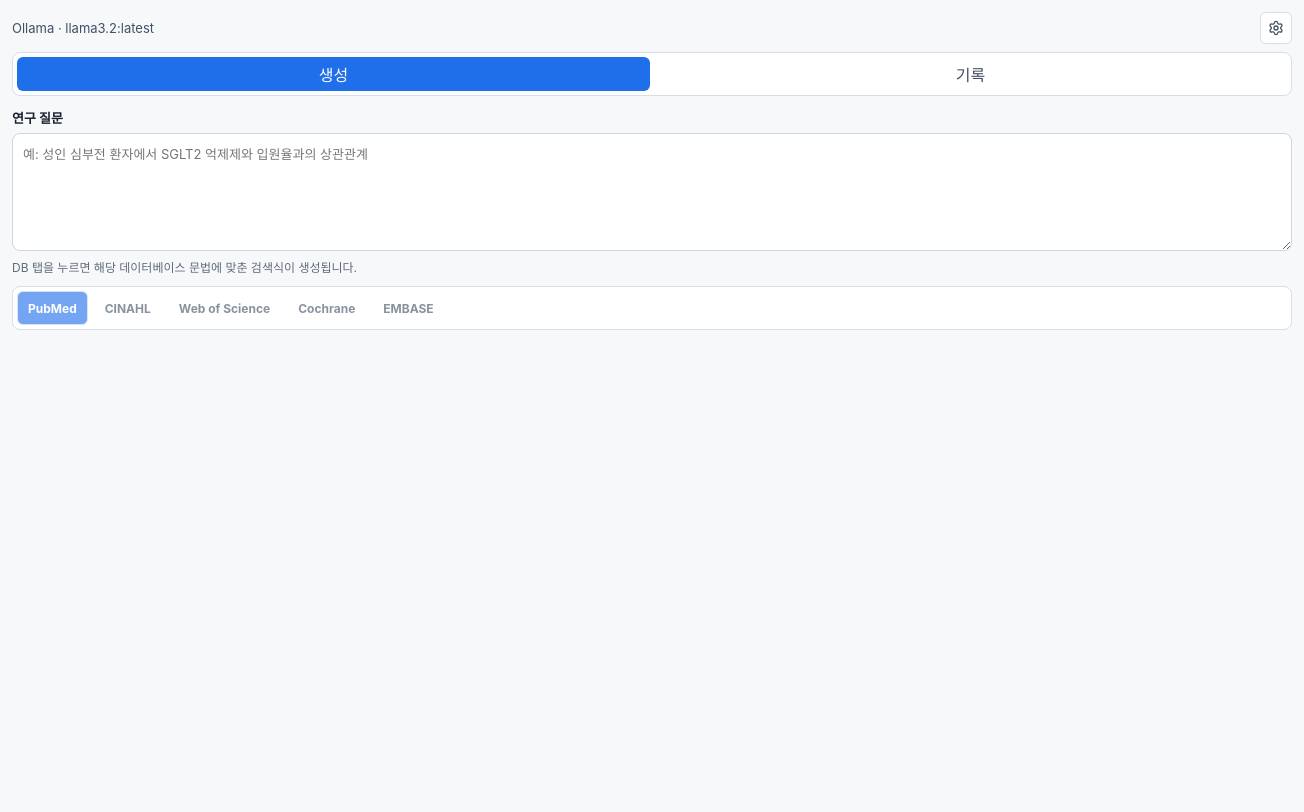
it: Generator › clears the draft question and visible results for a new question without deleting history
In the text box labelled "연구 질문": (652, 192) [12,133,1292,251], type "노인 우울증 환자에서 운동 치료"
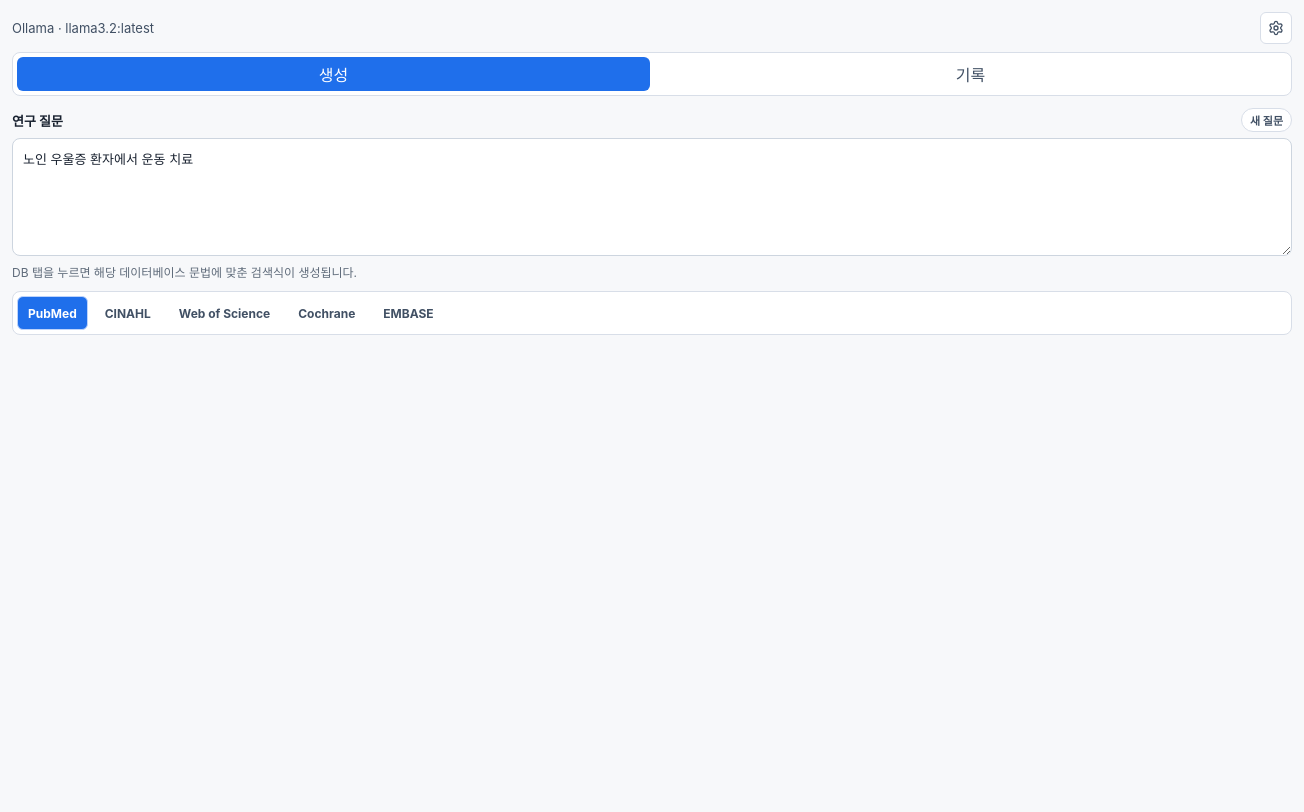
Click the tab "PubMed": (52, 313) [17,296,88,330]
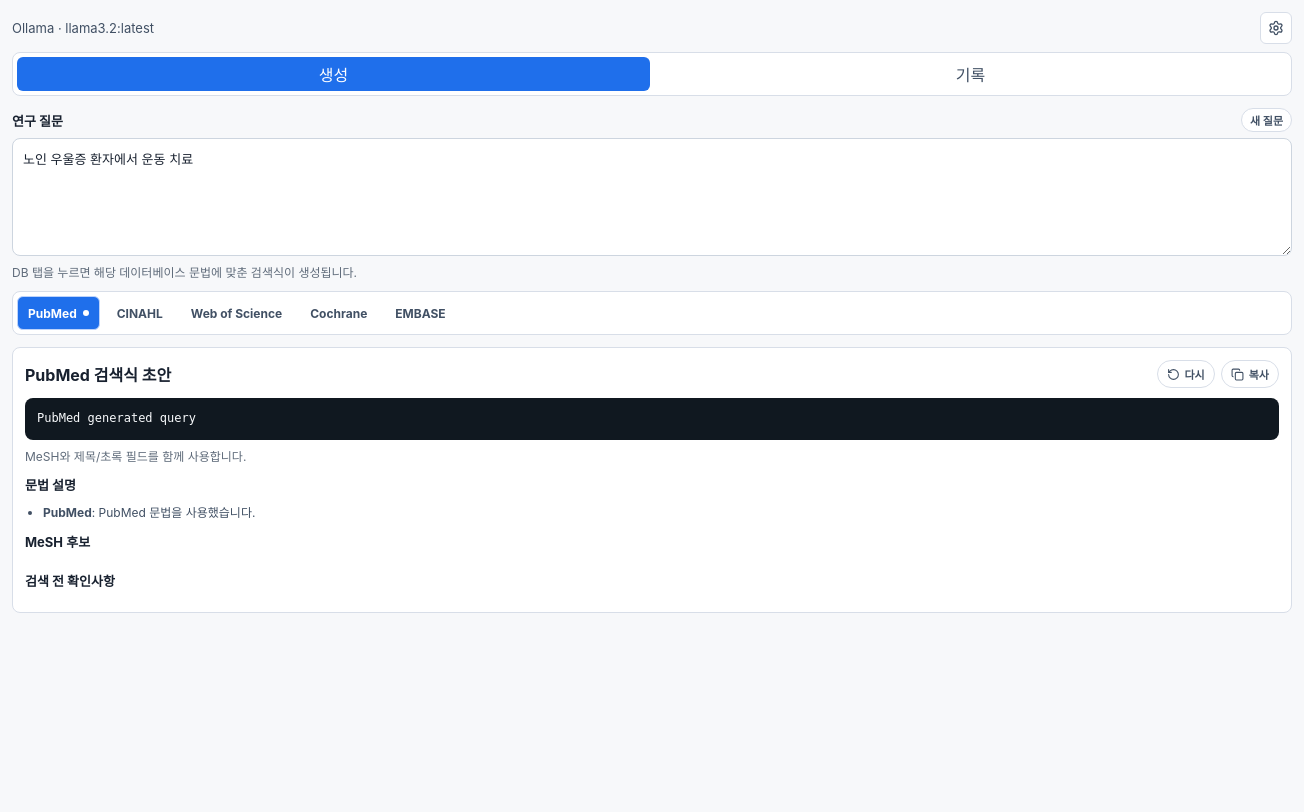
Expected: the text "PubMed generated query" is shown, [25,398,1279,440]
Click the button "새 질문": (1266, 120) [1241,108,1292,132]
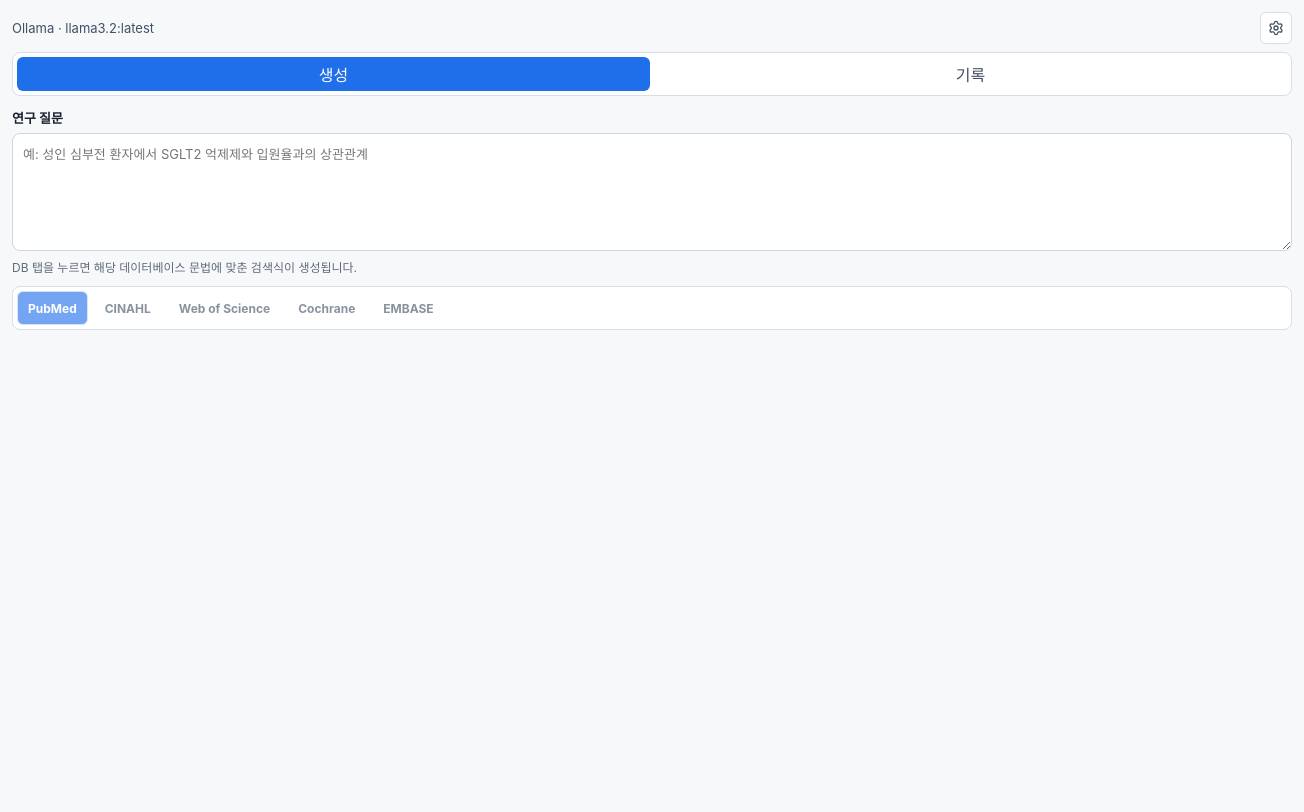
Expected: the text box labelled "연구 질문" is empty, [12,133,1292,251]
Expected: the text "PubMed generated query" is gone
Click the button "기록": (970, 74) [654,57,1287,91]
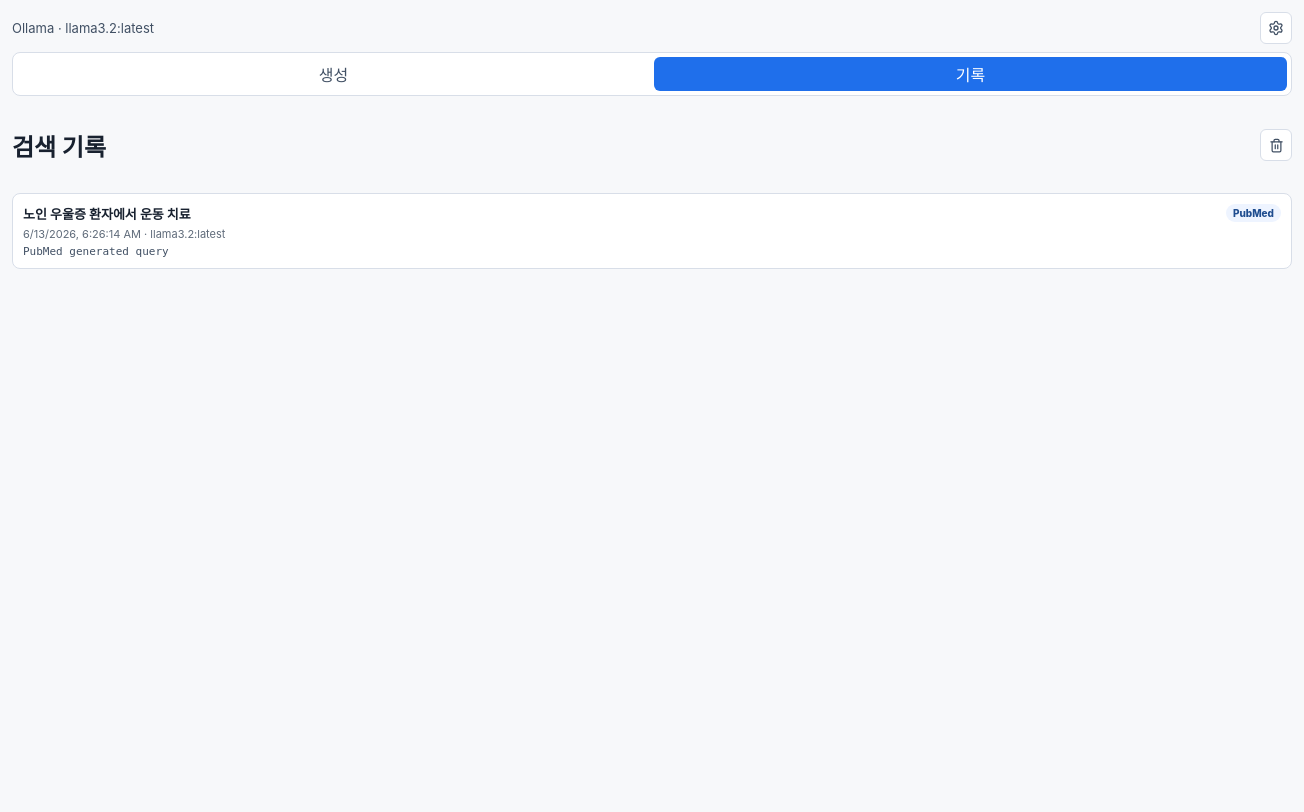
Expected: the text "노인 우울증 환자에서 운동 치료" is shown, [23,206,191,222]
